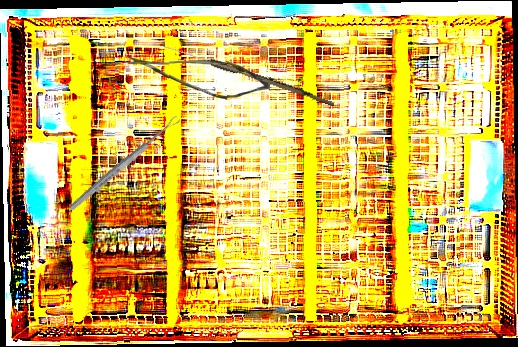Micro Scissor: (125, 52, 271, 101)
Surgical Spoon: (67, 114, 182, 213), (164, 43, 336, 107)
